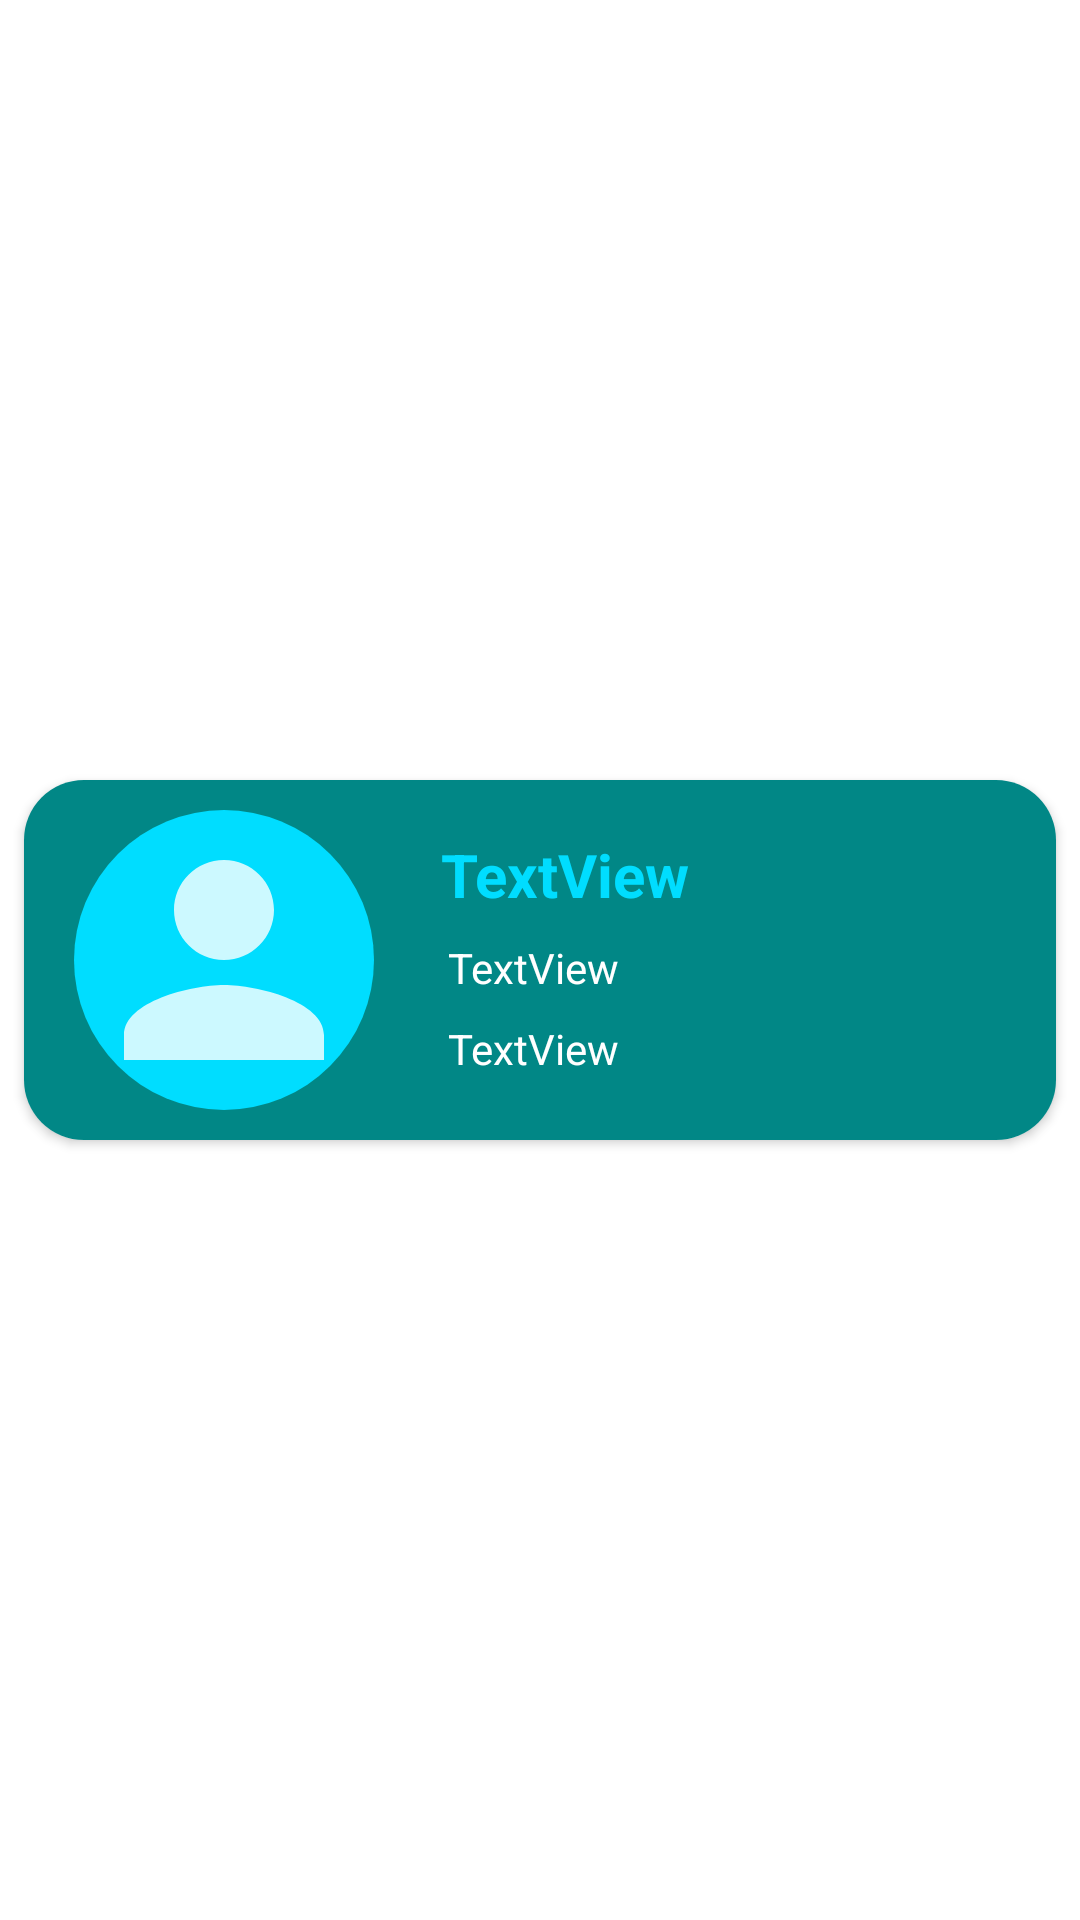

Screen size 1080px×1920px. Icon name, then its box in pixels as detection(x1, y1, x2, y2):
person: detection(74, 810, 374, 1110)
